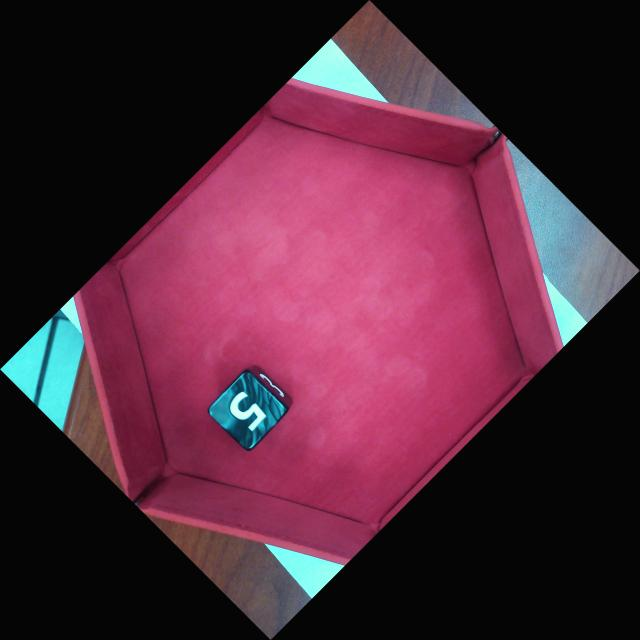dice: (202, 369, 292, 454)
